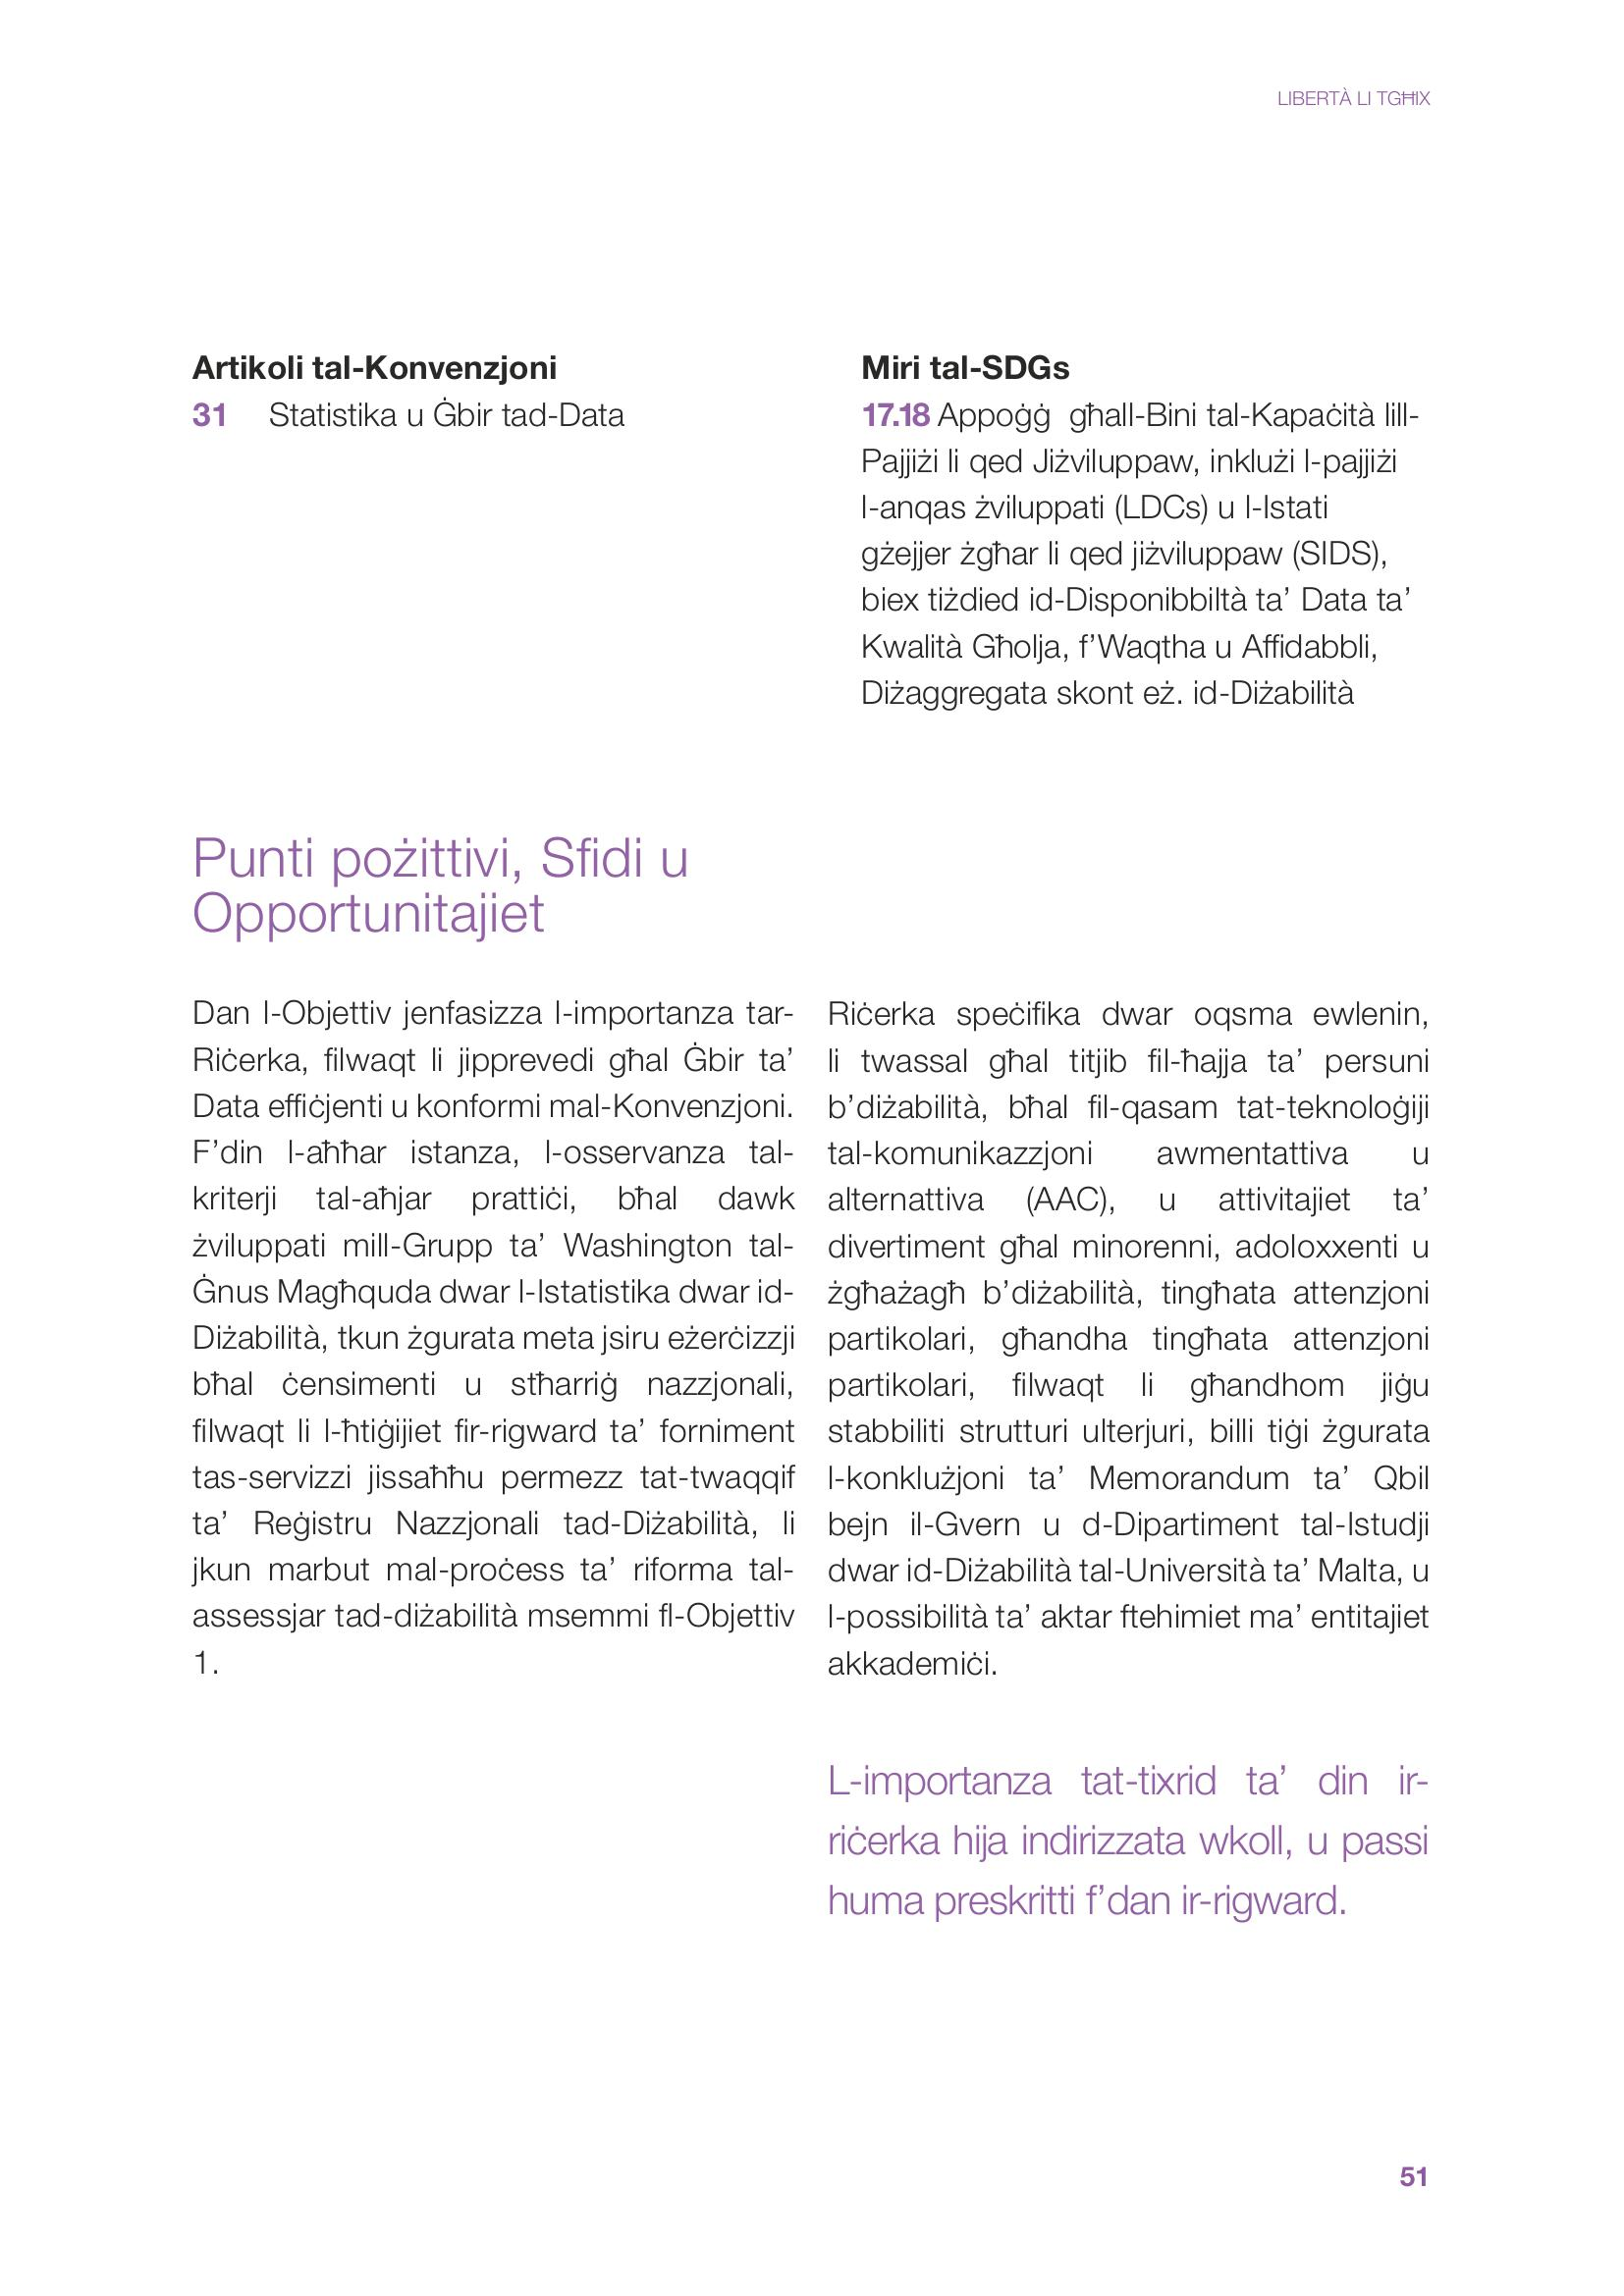text: (816, 982, 1466, 1978), (179, 812, 814, 1718)
